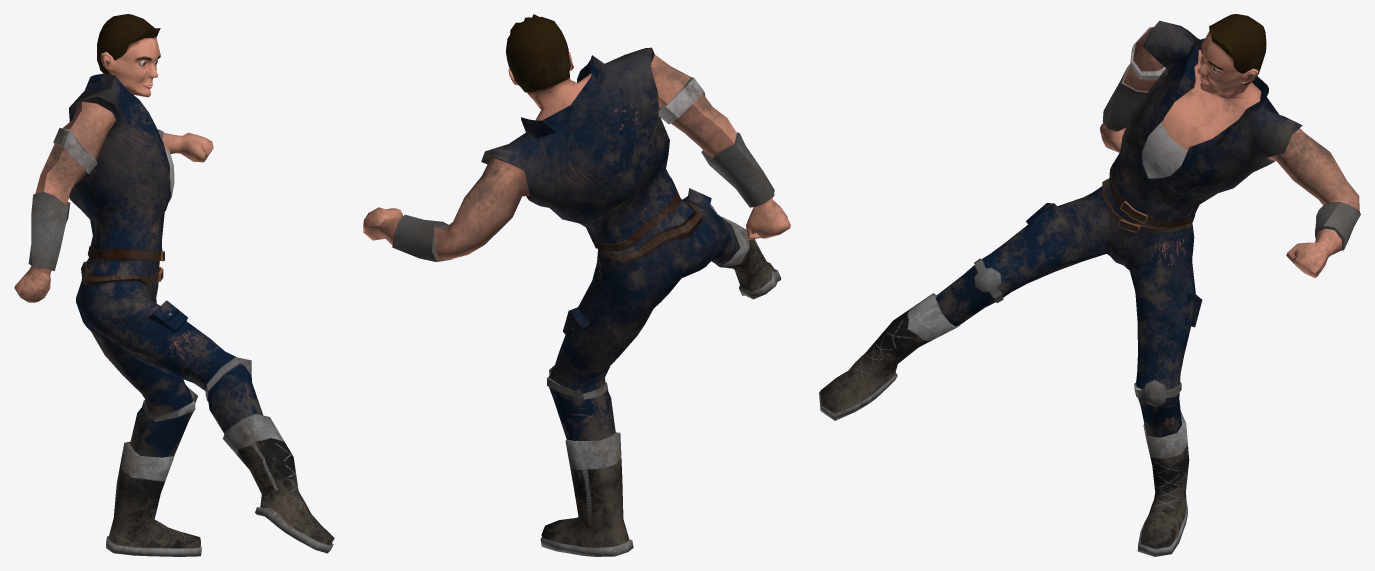
File: Anim_ataque_f2_jugador.0021.obj
3 renders of one model, left to right at view 1: azimuth 30°, elevation 25°; view 2: azimuth 150°, elevation 25°; view 3: azimuth 270°, elevation 25°, orthographic. The views are drawn at different scales.
Visible parts, largest first — view 1: polySurface1; view 2: polySurface1; view 3: polySurface1.
Part boxes in pixels (x1,y1,x2,y2): polySurface1: (14,14,334,556); polySurface1: (363,14,790,556); polySurface1: (819,14,1360,556).
Size of the model in its own units: 5.44 by 9.12 by 8.56.
